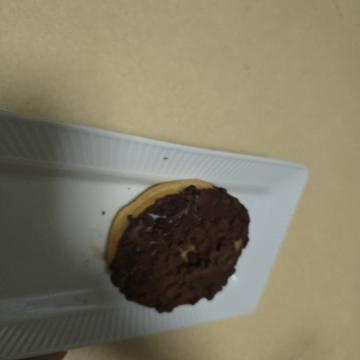doughnut: (170, 100, 321, 266)
